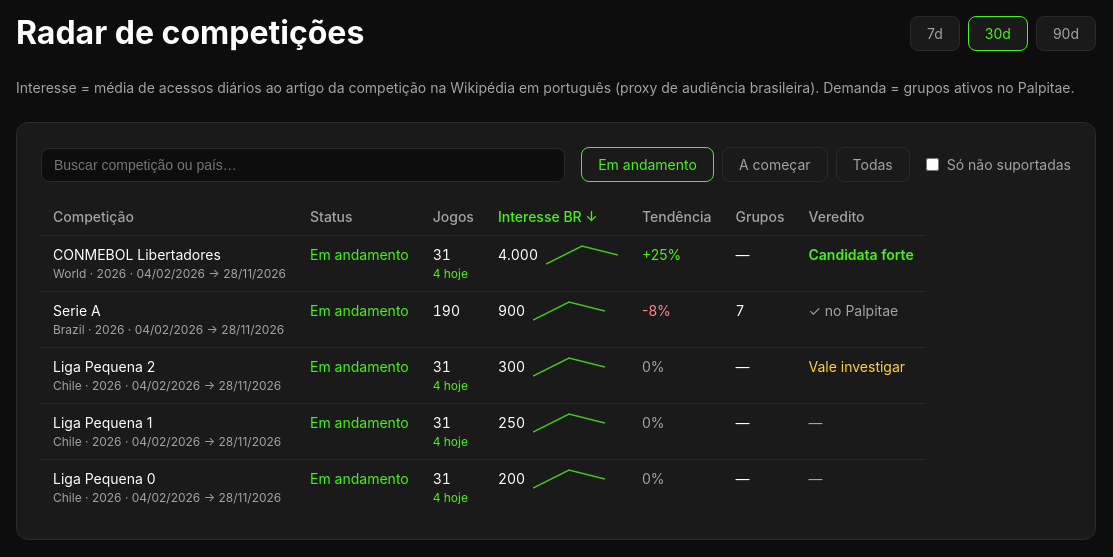
AdminRadarPage › busca por nome ou país
The width and height of the screenshot is (1113, 557).
Expected: the text "CONMEBOL Libertadores" is shown, [53, 246, 221, 263]
Step 1. Type "brazil" into the search field labelled "Buscar competição" → (303, 164), box [41, 148, 565, 182]
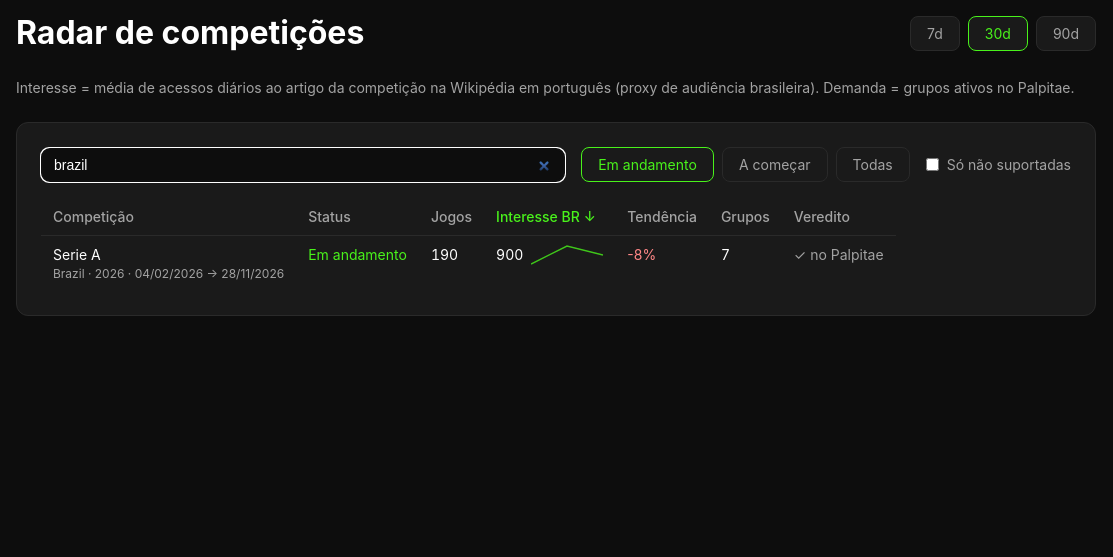
Expected: the text "Serie A" is shown, [53, 246, 101, 263]
Expected: the text "CONMEBOL Libertadores" is gone
